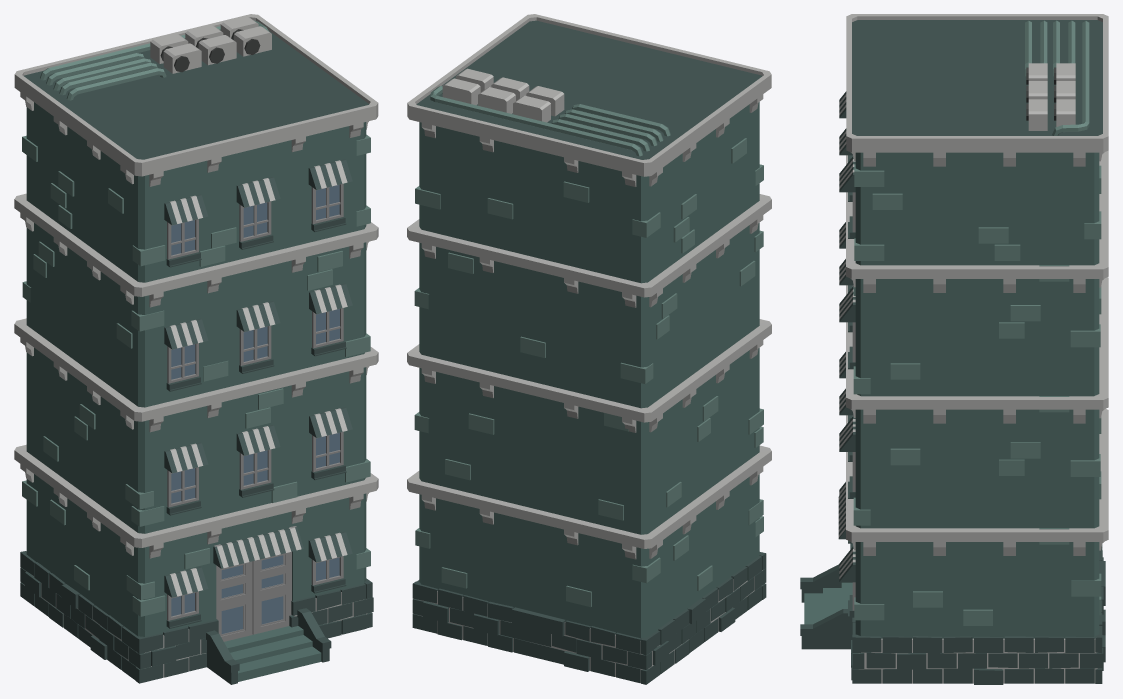
The model's file is quaternius-buildings-pack-3-4-story-mat.glb.
3 views of the same model, side by side, from view 1: azimuth 30°, elevation 25°; view 2: azimuth 150°, elevation 25°; view 3: azimuth 270°, elevation 25° (orthographic). The views are drawn at different scales.
Visible parts, largest first — view 1: 4Story_Mat; view 2: 4Story_Mat; view 3: 4Story_Mat.
Part boxes in pixels (box(x1,y1,x2,y2)): 4Story_Mat: box(14, 14, 378, 684); 4Story_Mat: box(407, 14, 771, 684); 4Story_Mat: box(800, 14, 1108, 684).
Size of the model in its own units: 2.42 by 5.09 by 2.53.
1 material, 1 textured.
